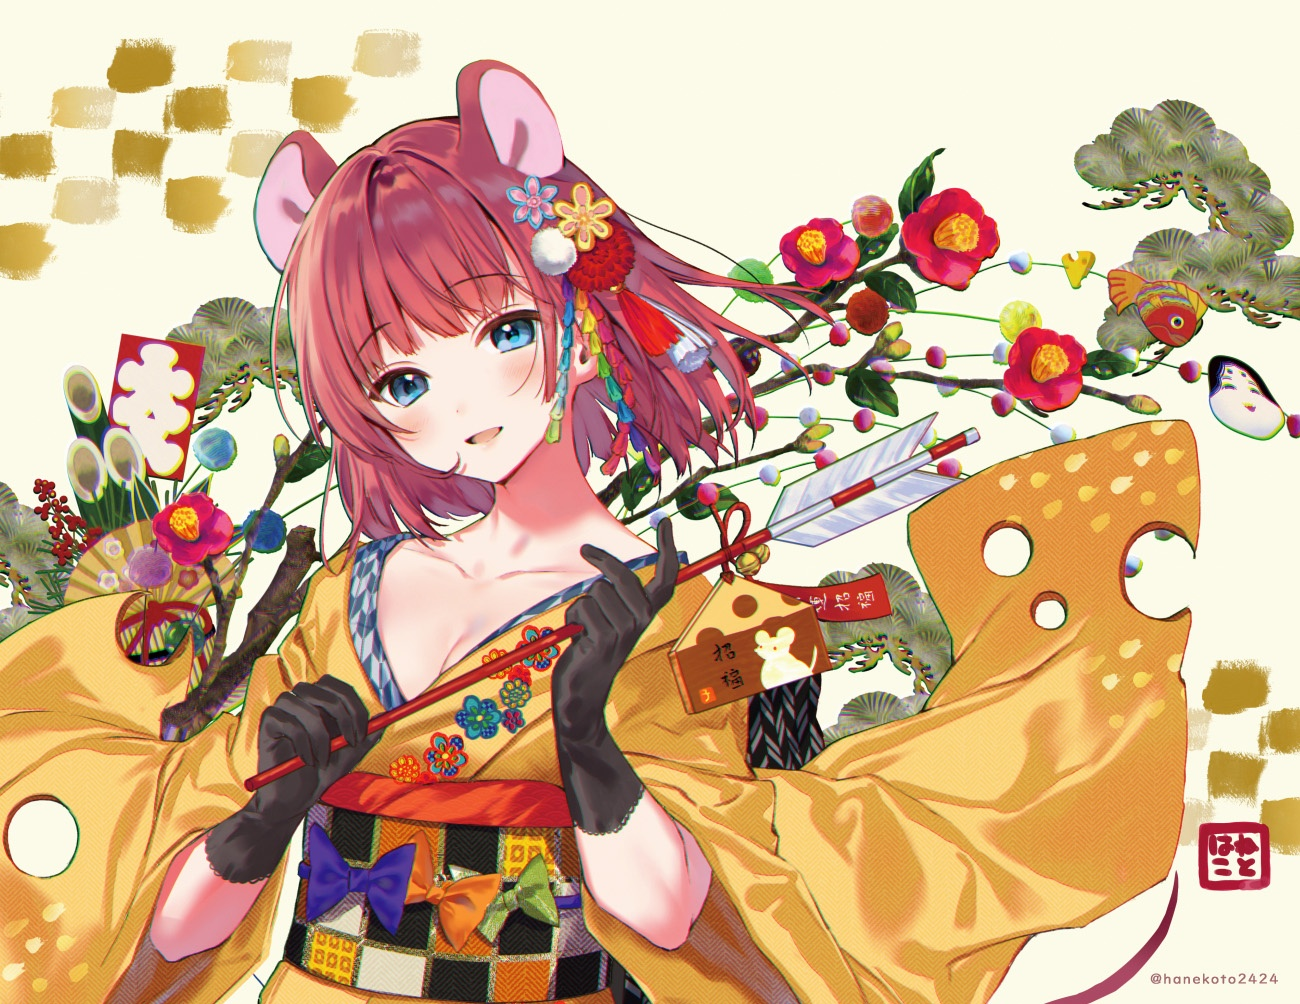纸片人正脸: (263, 109, 622, 499)
